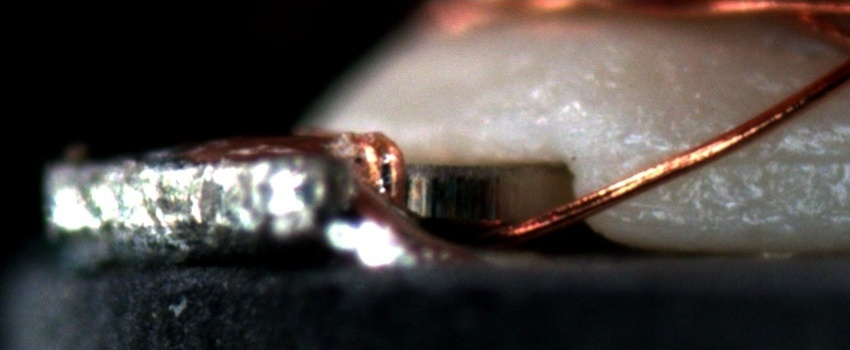DL: (626, 126, 849, 190)
TE: (345, 124, 409, 211)
